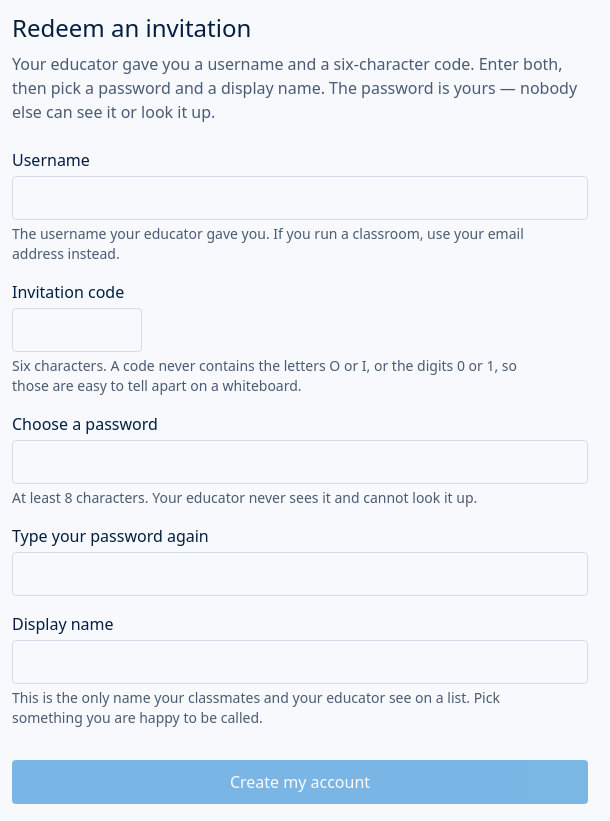
redemption sets her own password and alias (FR-027) › says the account exists when only the follow-up sign-in fails
The image size is (610, 821).
Type "learner-new" into the field labelled "Username" at (300, 198), box [12,176,588,220]
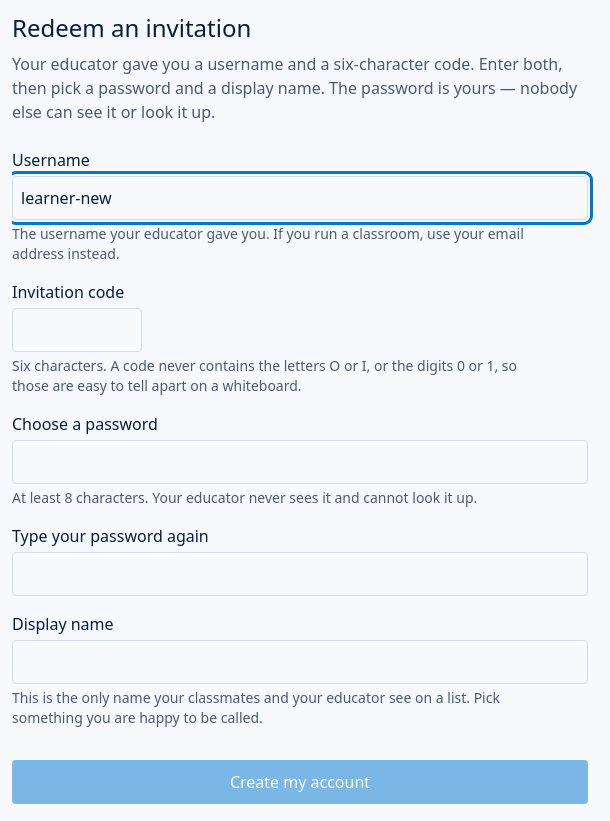
Type "SEEDB3" into the field labelled "Invitation code" at (77, 330), box [12,308,142,352]
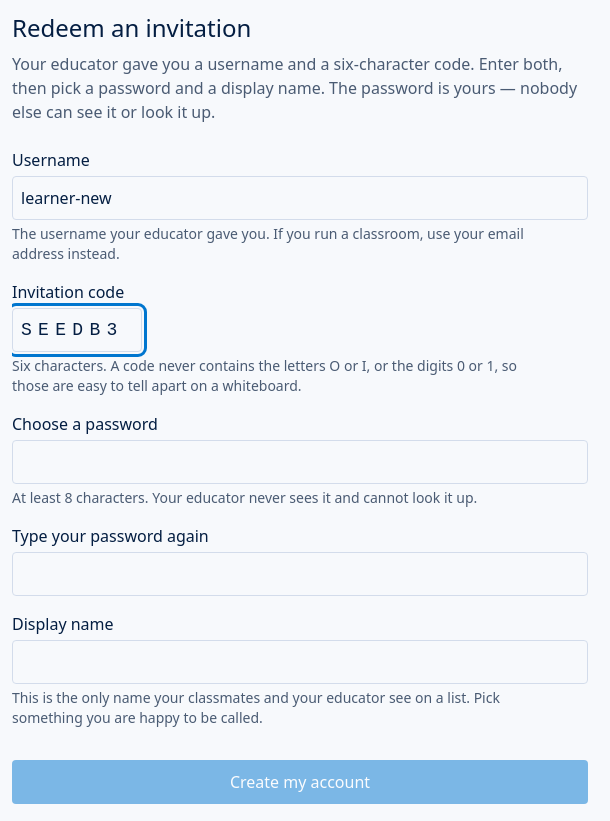
Type "a-good-password" into the password field labelled "Choose a password" at (300, 462), box [12,440,588,484]
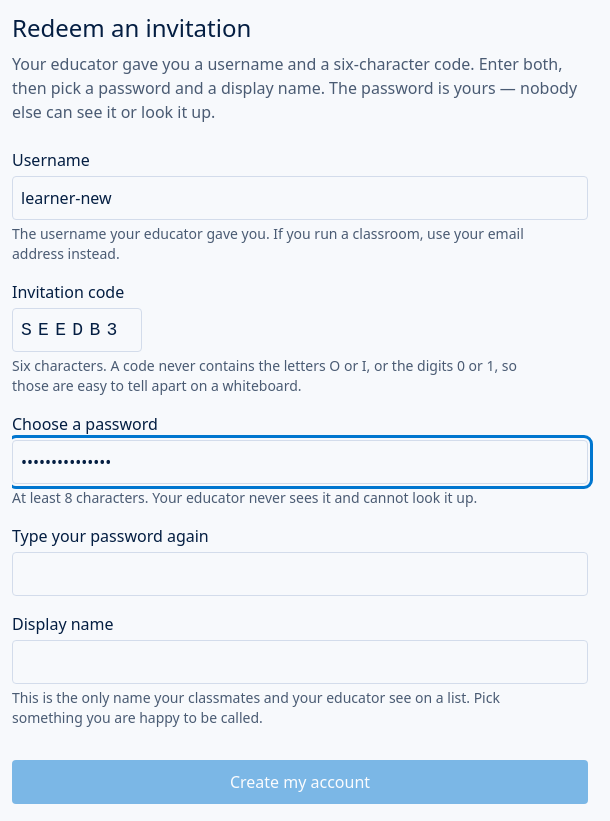
Type "a-good-password" into the password field labelled "Type your password again" at (300, 574), box [12,552,588,596]
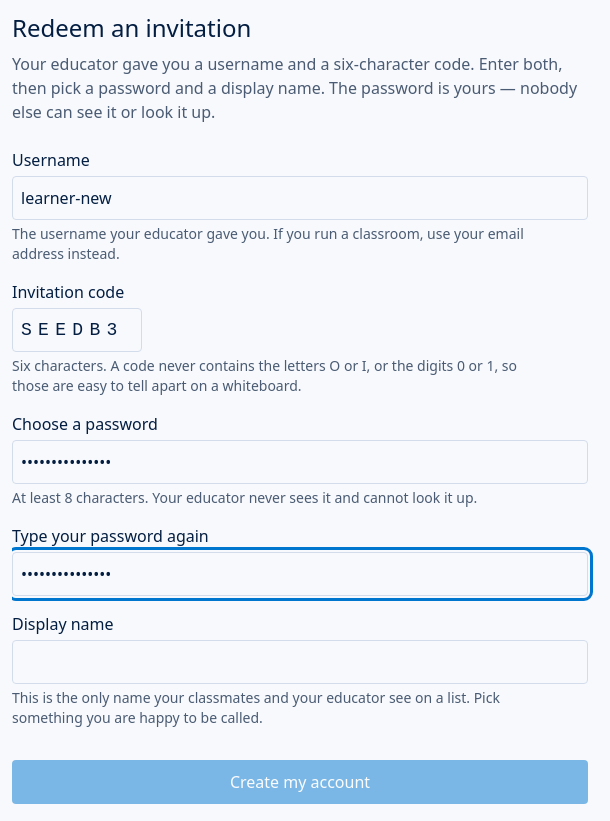
Type "Willow" into the field labelled "Display name" at (300, 662), box [12,640,588,684]
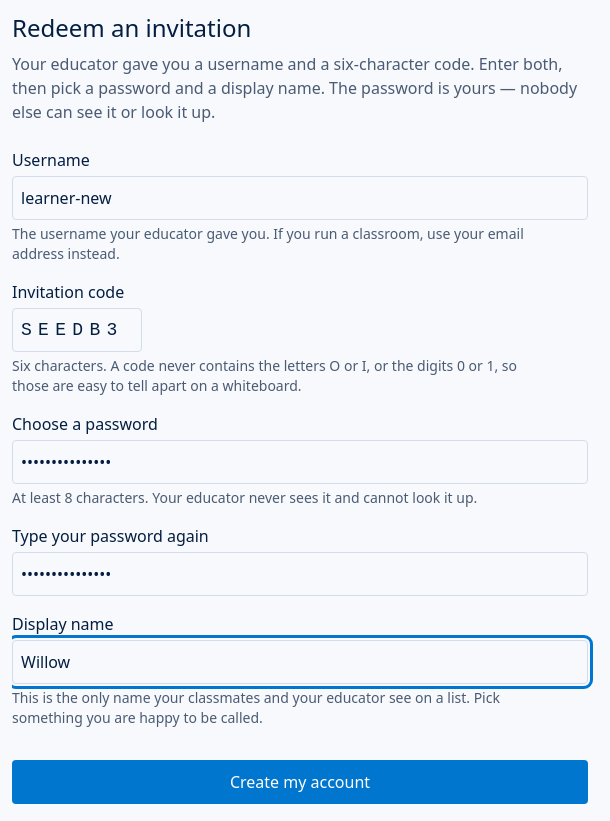
Click the button "Create my account" at (300, 782), box [12,760,588,804]
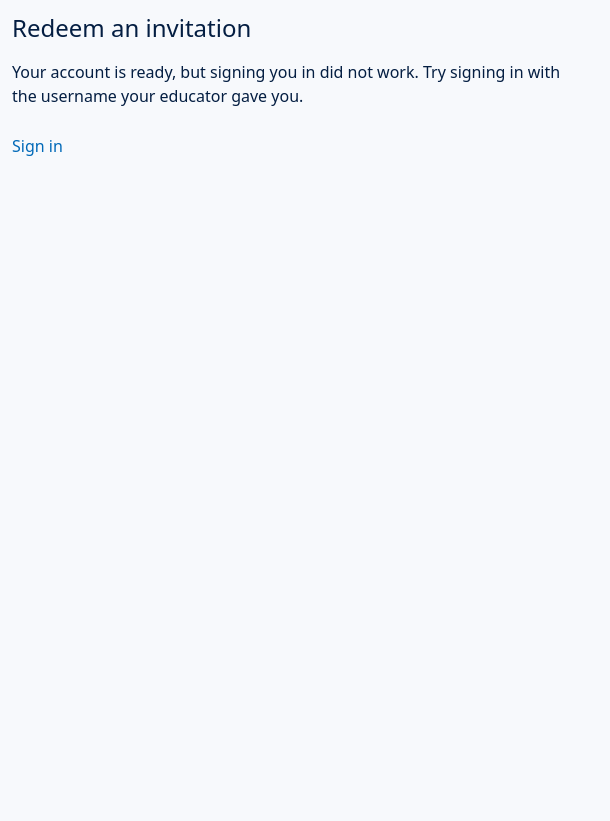
Now the text "Your account is ready, but" is shown, box [12,61,560,107]
